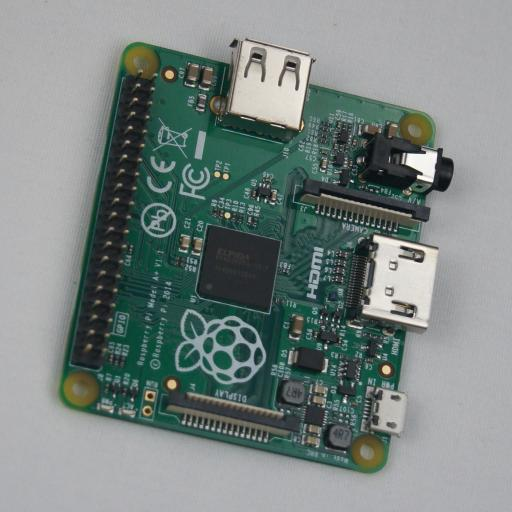Raspberry Pi A-: (58, 38, 454, 474)
